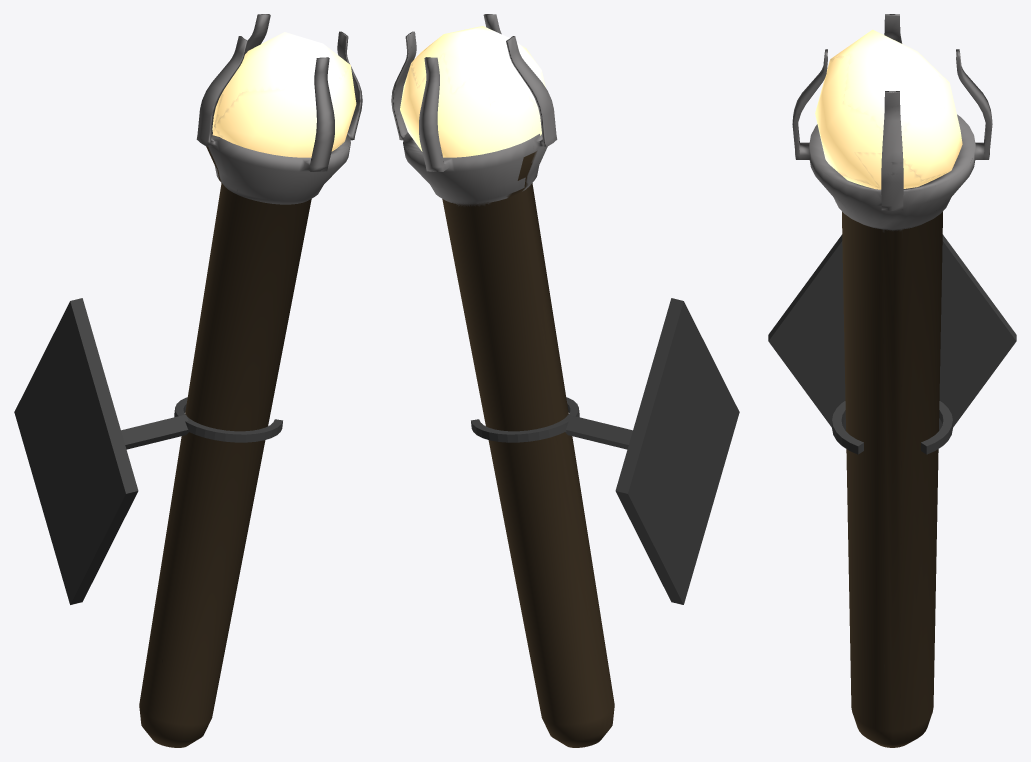
The model's file is torch.fbx.
3 renders of one model, left to right at view 1: azimuth 30°, elevation 25°; view 2: azimuth 150°, elevation 25°; view 3: azimuth 270°, elevation 25°, orthographic. The views are drawn at different scales.
Parts seen in each view (by area): view 1: Cube; view 2: Cube; view 3: Cube.
Part boxes in pixels (x1,y1,x2,y2): Cube: [14, 14, 362, 747]; Cube: [391, 14, 739, 747]; Cube: [768, 14, 1016, 747].
Bounding box in the file's own units: 594 × 1357 × 399.
